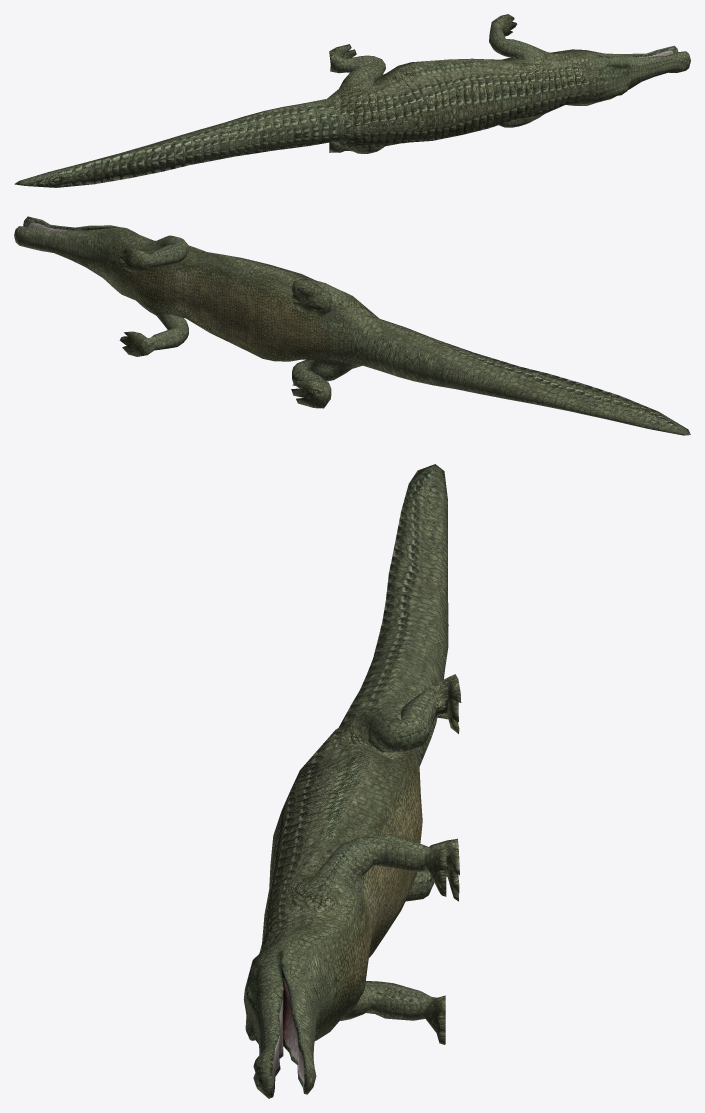
The model's file is alligator_000151.obj.
3 renders of one model, top to bottom at view 1: azimuth 30°, elevation 25°; view 2: azimuth 150°, elevation 25°; view 3: azimuth 270°, elevation 25°, orthographic. The views are drawn at different scales.
Visible parts, largest first — view 1: mesh1.002_mesh1-geometry; view 2: mesh1.002_mesh1-geometry; view 3: mesh1.002_mesh1-geometry.
Boxes of the visible parts, x1,y1,x2,y2 form: mesh1.002_mesh1-geometry: (14,14,690,187); mesh1.002_mesh1-geometry: (14,216,690,435); mesh1.002_mesh1-geometry: (243,464,461,1098).
Bounding box in the file's own units: 18.22 × 2.88 × 2.7.
